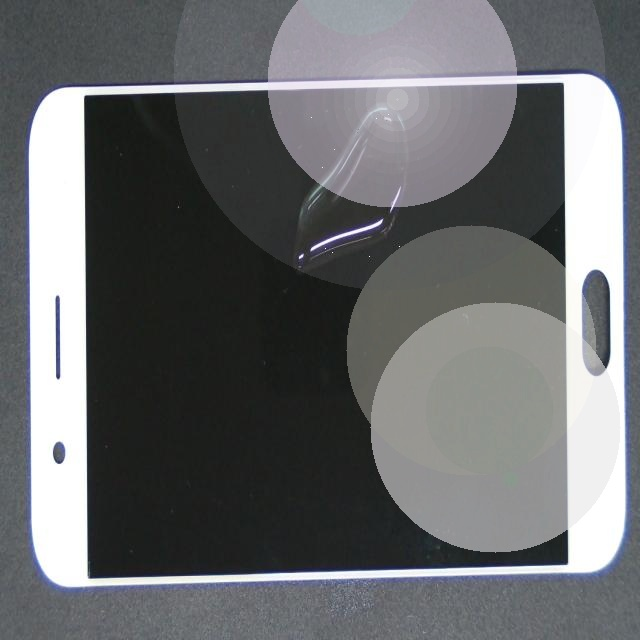oil: (192, 45, 517, 203)
